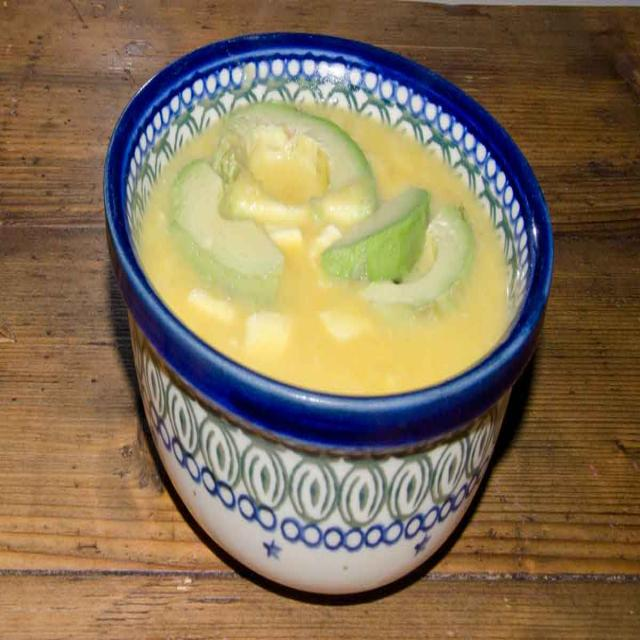pasta: (140, 83, 520, 450)
